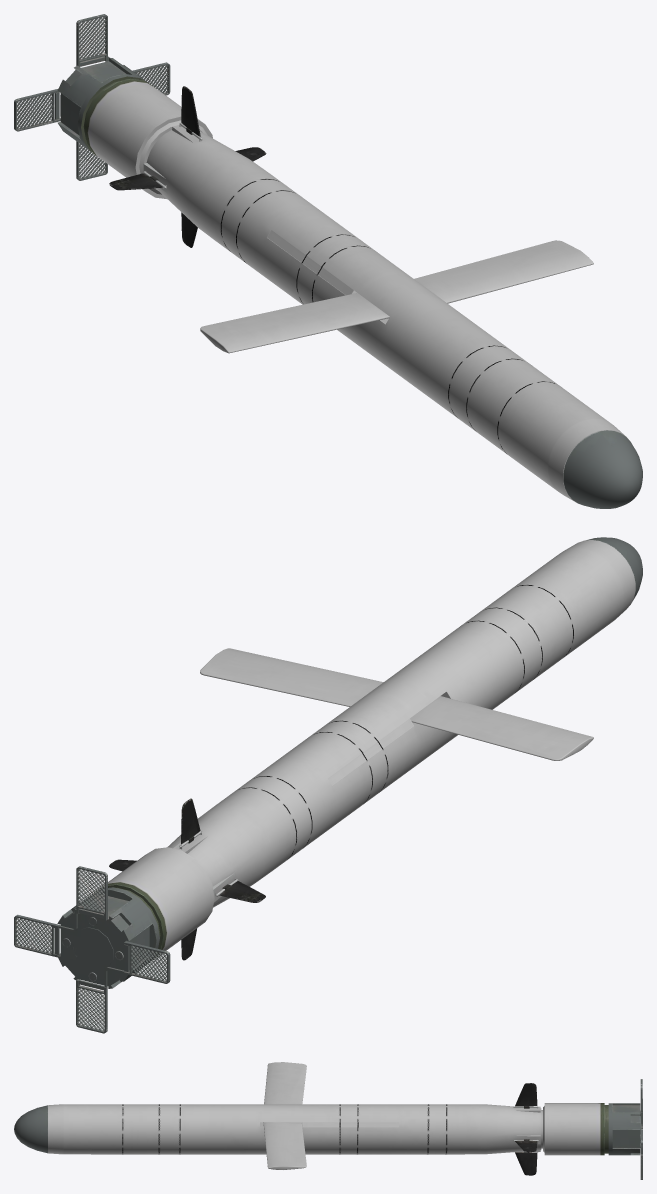
The model's file is 3m-54-kalibr-missile.glb.
3 renders of one model, top to bottom at view 1: azimuth 30°, elevation 25°; view 2: azimuth 150°, elevation 25°; view 3: azimuth 270°, elevation 25°, orthographic. The views are drawn at different scales.
Parts seen in each view (by area): view 1: kalibr_kalibr_01_kalibr_0; view 2: kalibr_kalibr_01_kalibr_0; view 3: kalibr_kalibr_01_kalibr_0.
Boxes of the visible parts, x1,y1,x2,y2 form: kalibr_kalibr_01_kalibr_0: (14, 14, 642, 508); kalibr_kalibr_01_kalibr_0: (14, 537, 642, 1033); kalibr_kalibr_01_kalibr_0: (14, 1062, 642, 1179).
Bounding box in the file's own units: 2.44 × 1.02 × 6.22.
Materials: 1 (1 with a texture image).
